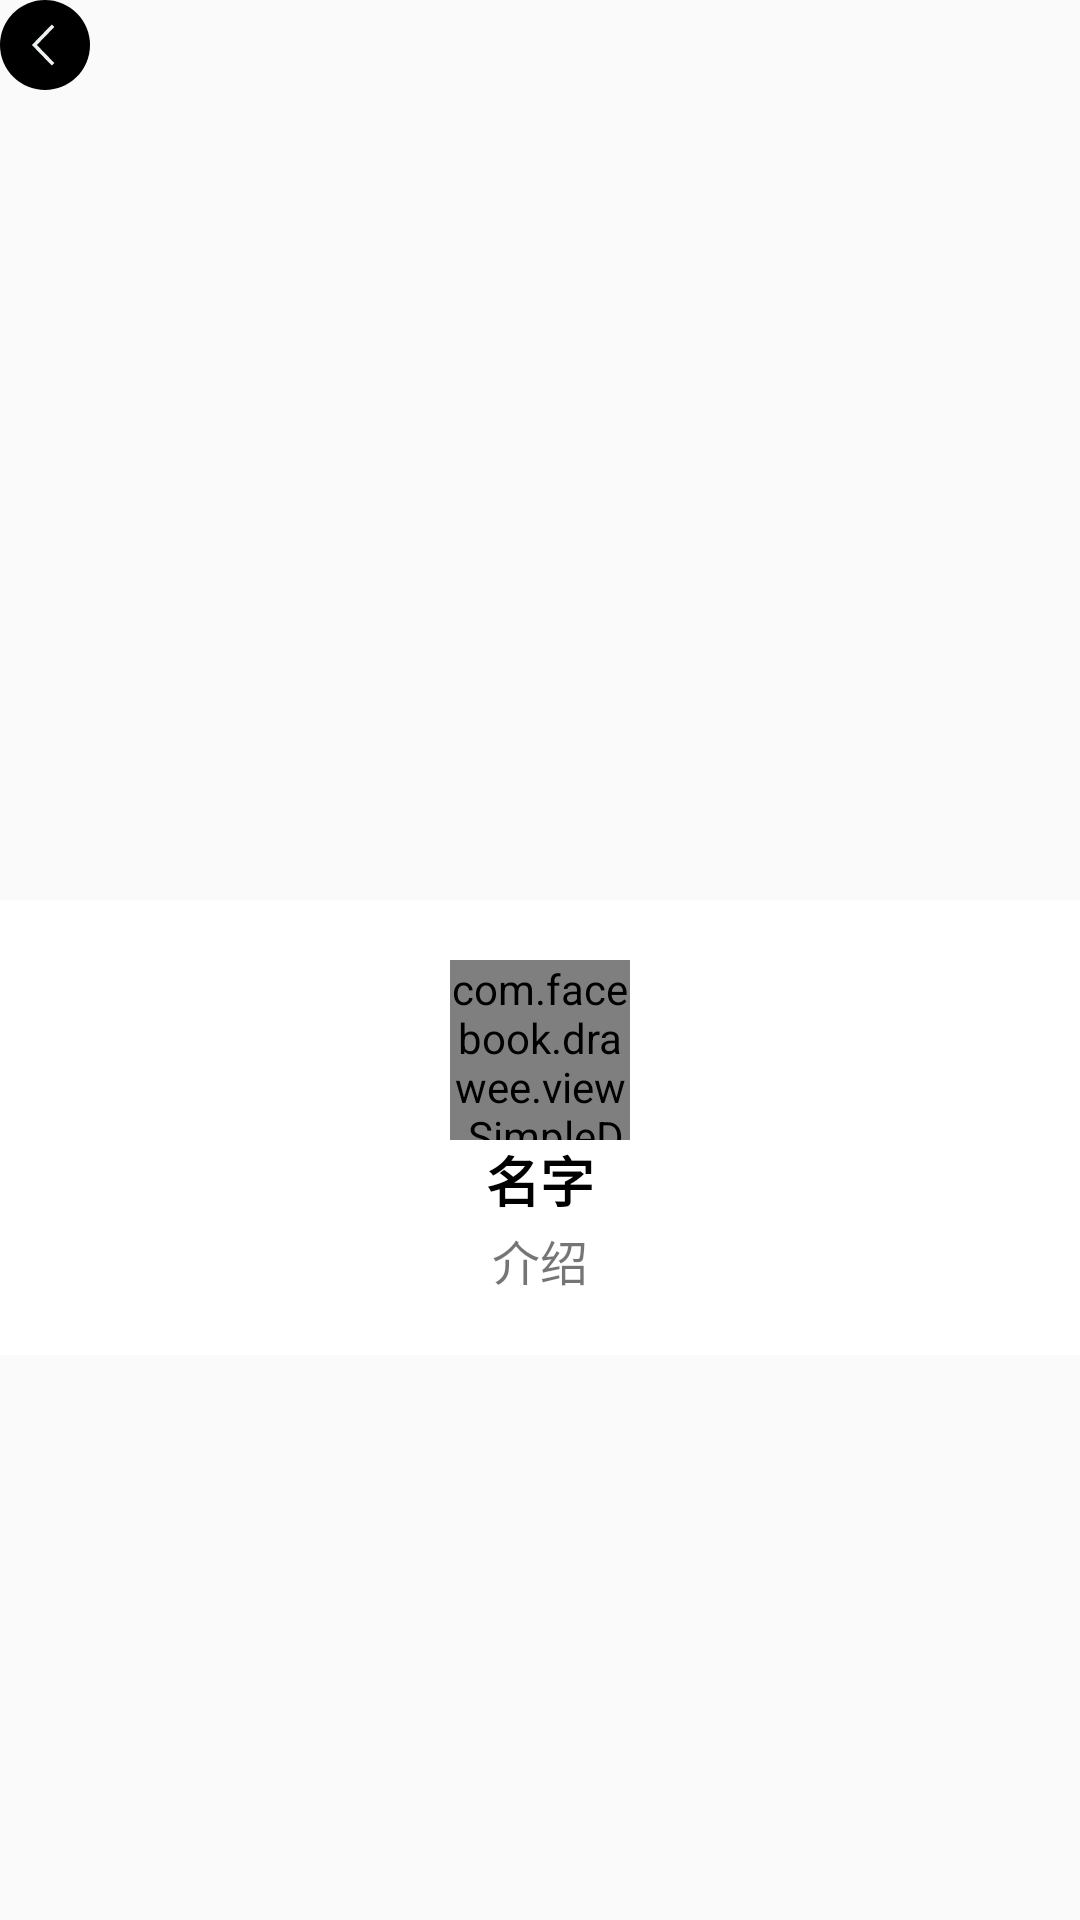

Locate icon controls on the screen. Image size 1080px x 1920px, boxes as (x1, y1, x2, y2).
back: (0, 0, 90, 90)
